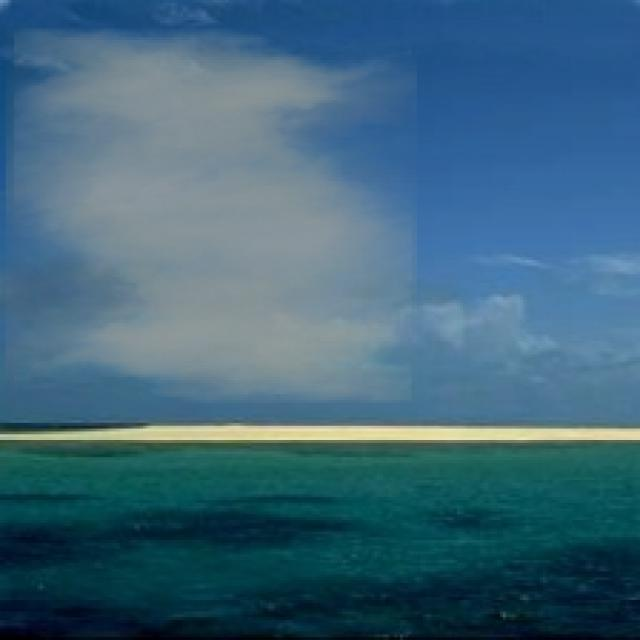smoke: (6, 28, 417, 403)
